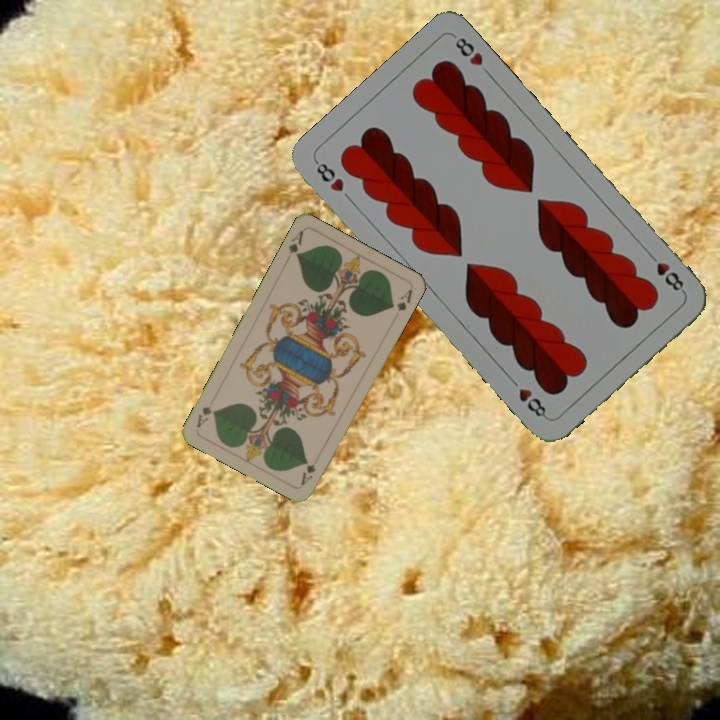GA: (284, 226, 306, 261), (297, 459, 318, 488)
H8: (643, 248, 688, 296), (311, 157, 346, 195)
